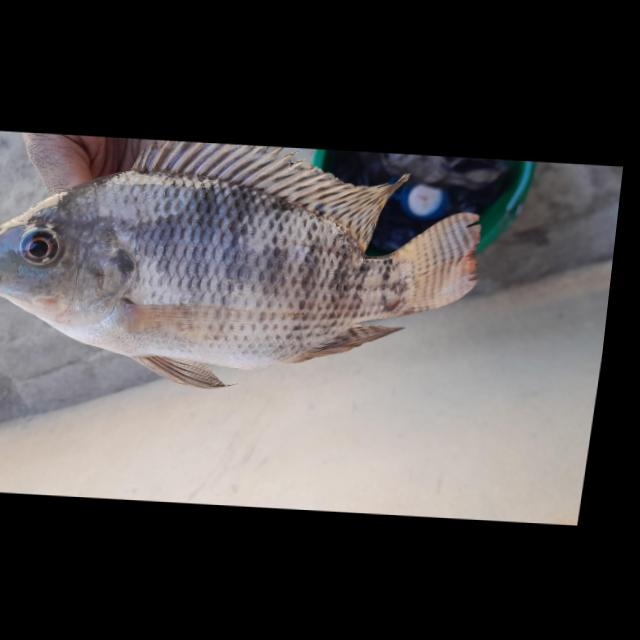Tilapia: (0, 130, 496, 405)
